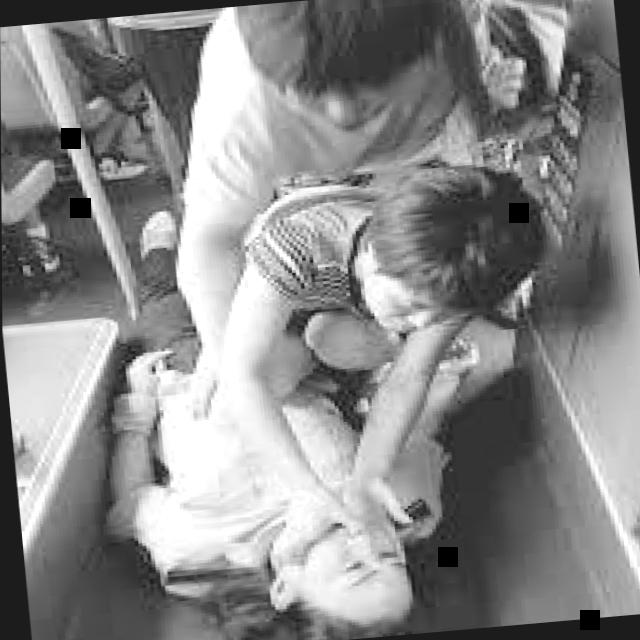Fall-Detected: (49, 171, 467, 640)
